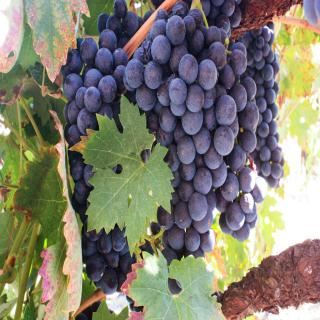Grape: (59, 0, 284, 312), (304, 0, 320, 24), (315, 0, 320, 19)
